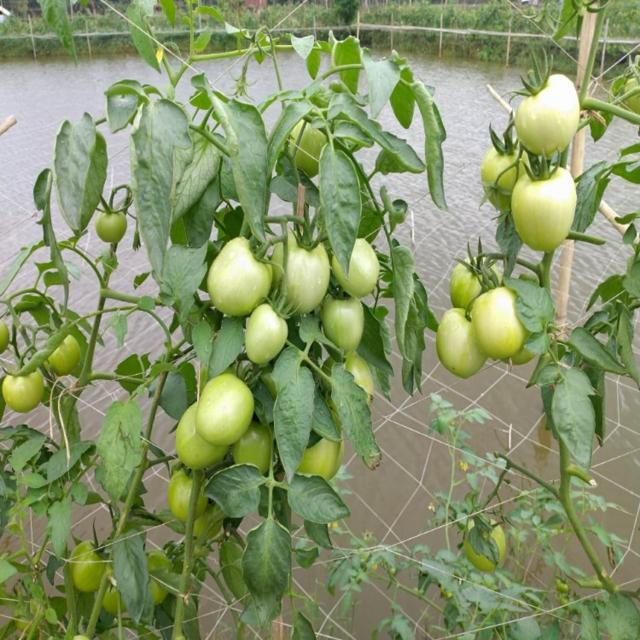tomato: (512, 168, 578, 255), (210, 235, 275, 323), (513, 73, 583, 152), (197, 377, 258, 448), (470, 287, 531, 357), (276, 232, 326, 315), (175, 404, 225, 472), (439, 309, 486, 379), (246, 303, 294, 367), (333, 232, 386, 289), (463, 517, 514, 576), (332, 350, 383, 409), (322, 293, 372, 350), (287, 113, 328, 174), (304, 424, 343, 487), (68, 539, 107, 597), (451, 258, 500, 304), (486, 139, 524, 198), (163, 468, 206, 520), (145, 552, 180, 604), (5, 365, 43, 410), (47, 326, 83, 373), (239, 430, 275, 474), (96, 208, 127, 245), (102, 572, 125, 613), (1, 319, 14, 355)
